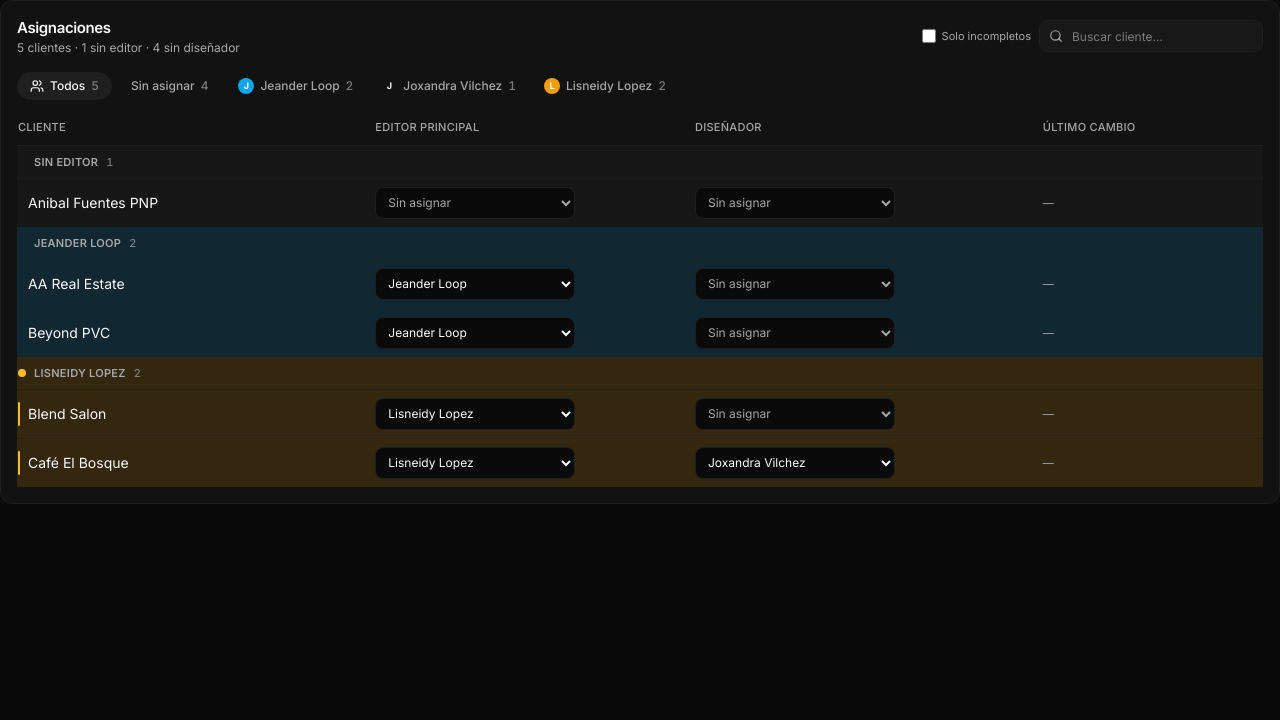
Scenario: AssignmentsTable › Sin asignar still shows incomplete clients
Click the button "Sin asignar 4".
click(170, 86)  # box [118,72,222,100]
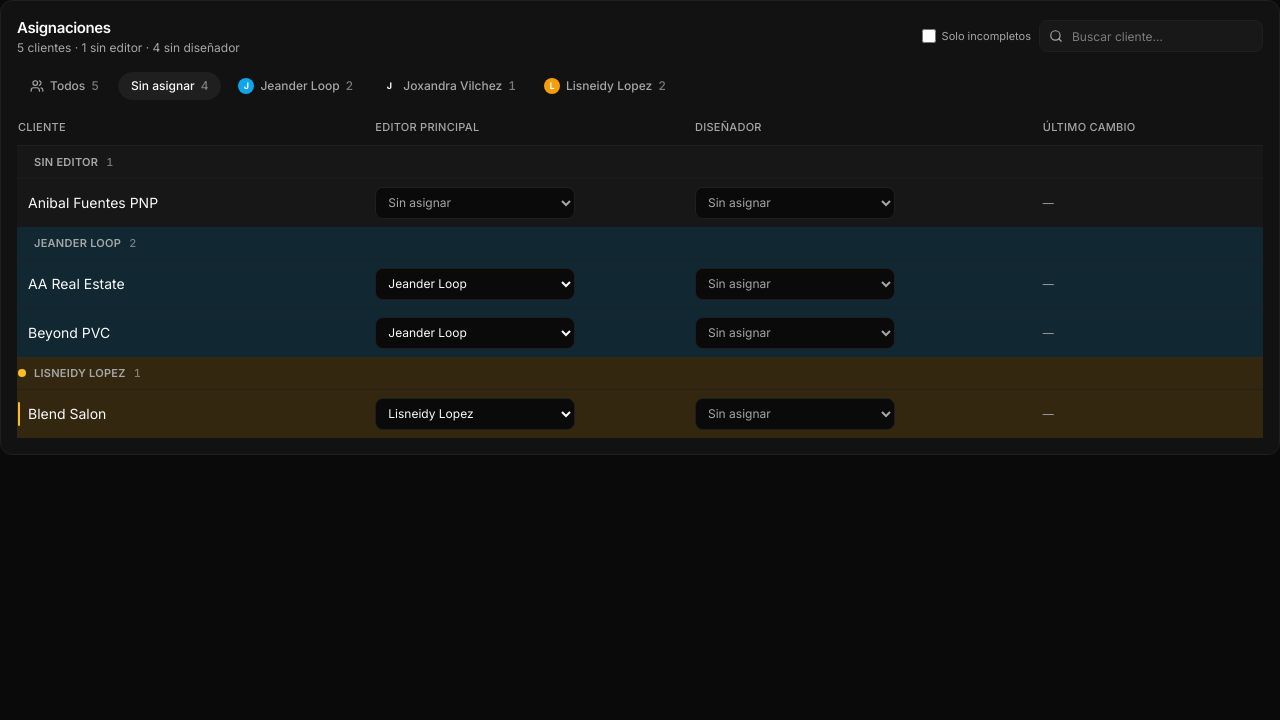
Check: the text "Anibal Fuentes PNP" is shown, box [28,192,158,212]
Check: the text "Café El Bosque" is gone
